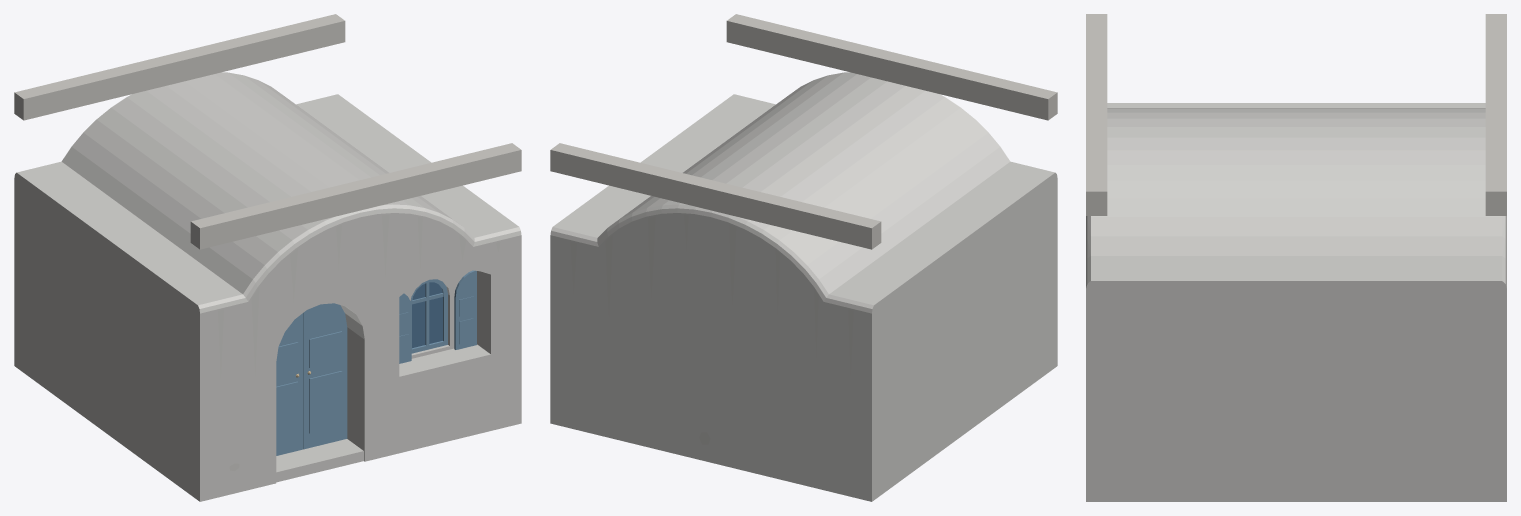
The model's file is cave1.glb.
3 views of the same model, side by side, from view 1: azimuth 30°, elevation 25°; view 2: azimuth 150°, elevation 25°; view 3: azimuth 270°, elevation 25° (orthographic). The views are drawn at different scales.
Parts seen in each view (by area): view 1: cave1; view 2: cave1; view 3: cave1.
Boxes of the visible parts, x1,y1,x2,y2 form: cave1: (14, 14, 521, 501); cave1: (550, 14, 1057, 501); cave1: (1086, 14, 1506, 501).
Bounding box in the file's own units: 4.4 × 3.58 × 4.4.
